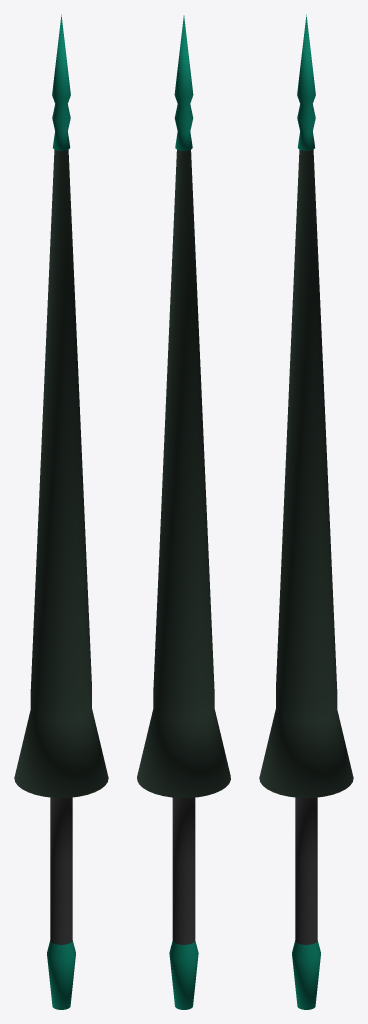
File: Lance.fbx
3 renders of one model, left to right at view 1: azimuth 90°, elevation 25°; view 2: azimuth 210°, elevation 25°; view 3: azimuth 270°, elevation 25°, orthographic.
Visible parts, largest first — view 1: Lance; view 2: Lance; view 3: Lance.
Boxes of the visible parts, x1,y1,x2,y2 form: Lance: (14,14,108,1009); Lance: (137,15,230,1009); Lance: (259,14,353,1009).
Bounding box in the file's own units: 39.15 × 455 × 39.26.
